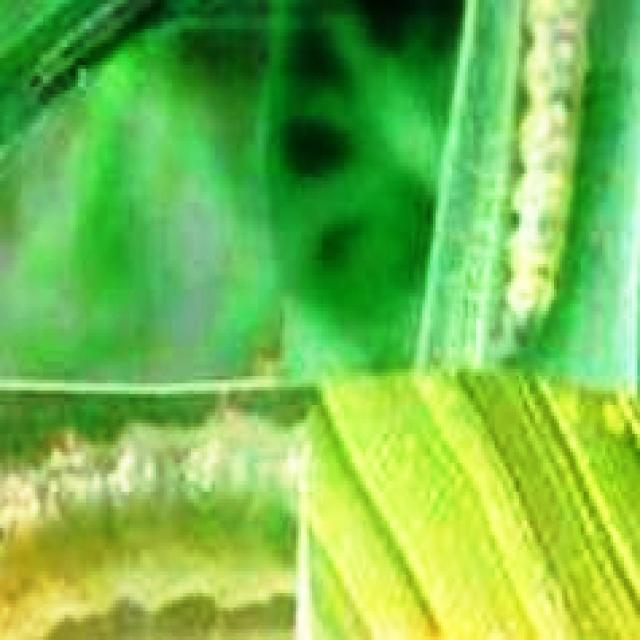leaf-folder: (8, 418, 289, 608), (477, 0, 597, 363), (11, 0, 177, 117)
